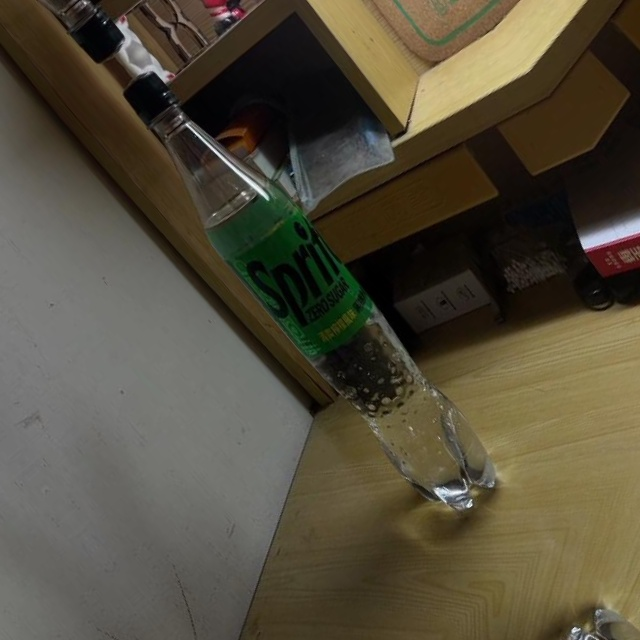Sprite: (93, 47, 521, 532)
